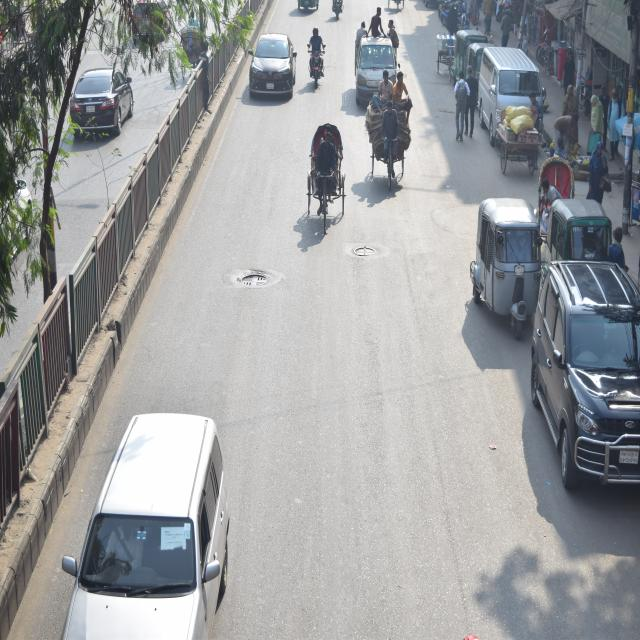car: (61, 399, 234, 639), (524, 250, 640, 516), (69, 60, 136, 144), (245, 27, 298, 99)
microbus: (478, 39, 540, 156)
motorbike: (306, 25, 327, 91), (329, 0, 346, 22)
pickup-van: (352, 21, 395, 111)
